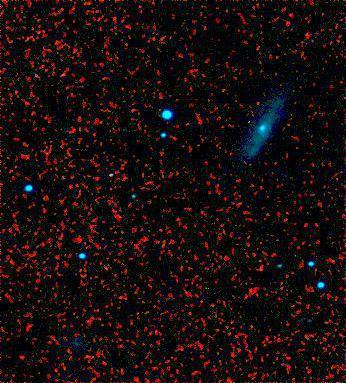star: (268, 98, 298, 128)
